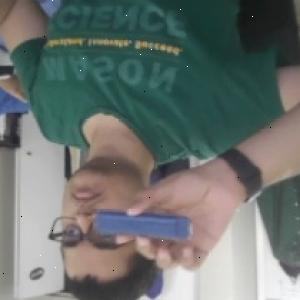Diamond-E-Ciggirate: (95, 210, 194, 242)
